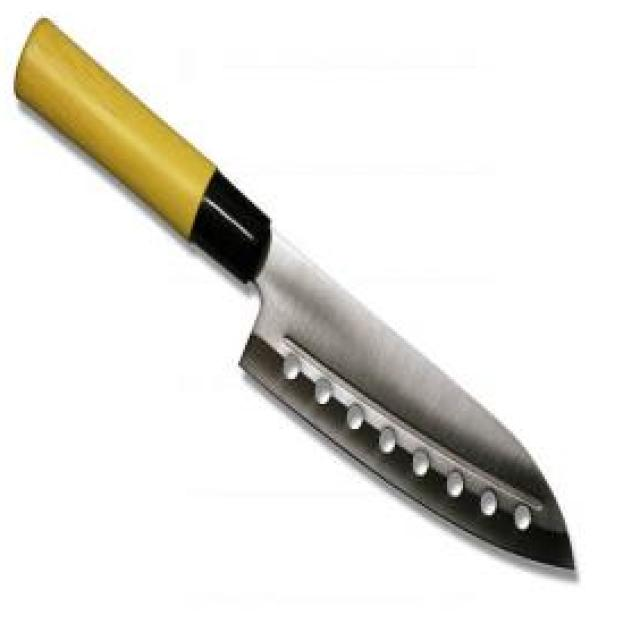knife: (10, 0, 577, 576)
